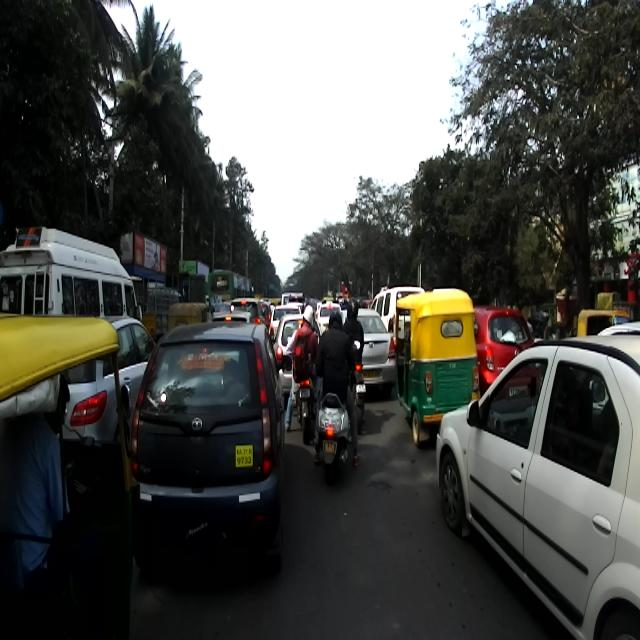auto ahead at: (382, 288, 482, 431)
car ahead at: (437, 329, 640, 640), (134, 328, 283, 564)
motorcycle ahead at: (312, 392, 357, 480)
